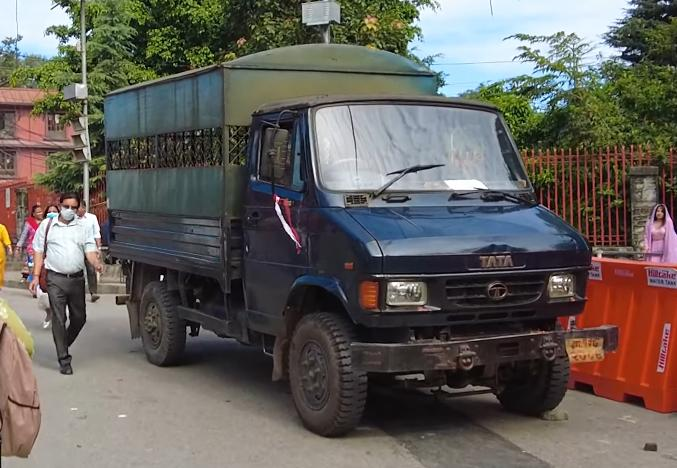mini_truck: (89, 39, 620, 417)
